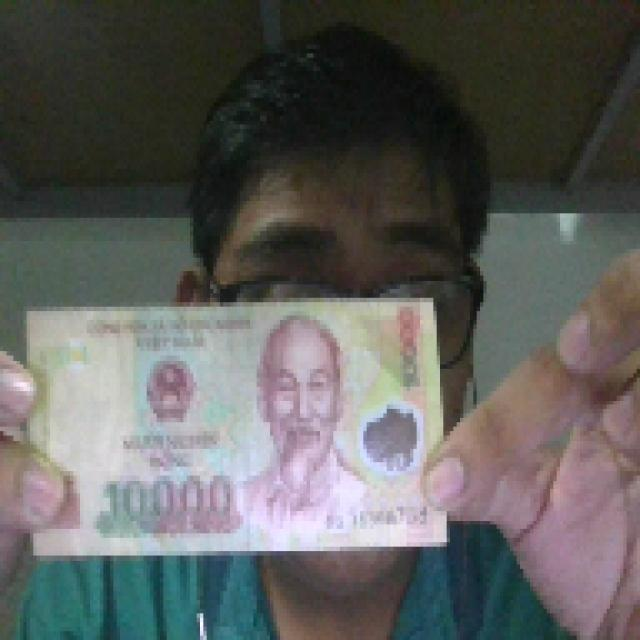10 000 VND: (20, 293, 453, 560)
